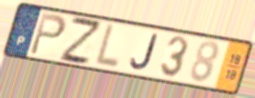3: (158, 35, 191, 80)
8: (189, 39, 222, 86)
J: (129, 32, 160, 72)
L: (92, 22, 122, 71)
P: (28, 11, 68, 57)
Z: (58, 14, 102, 67)
